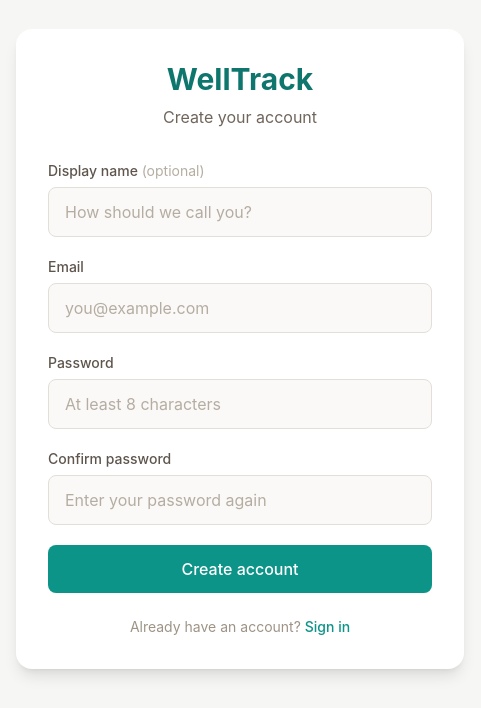
Test: RegisterPage › shows validation error for short password
Expected: the button "Create account" is shown, [48, 545, 432, 593]
Type "test@example.com" into the field labelled "Email" at (240, 308), box [48, 283, 432, 333]
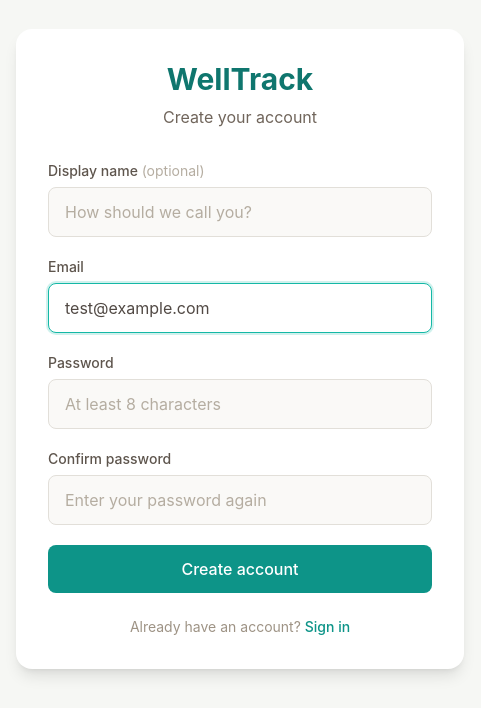
Type "short" into the password field labelled "Password" at (240, 404), box [48, 379, 432, 429]
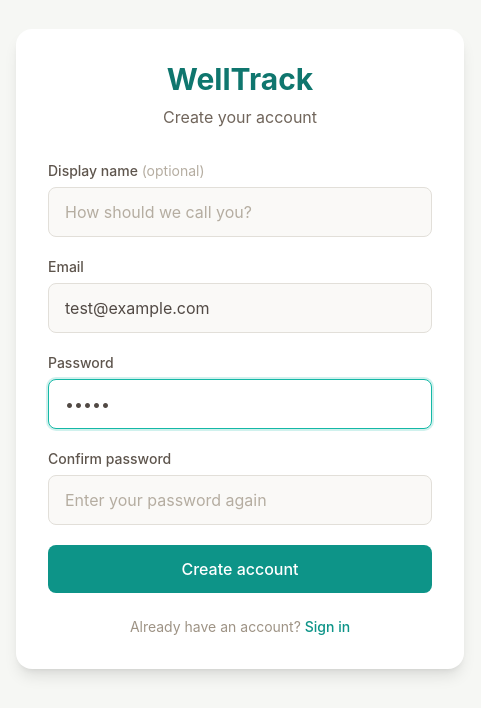
Type "short" into the password field labelled "Confirm password" at (240, 500), box [48, 475, 432, 525]
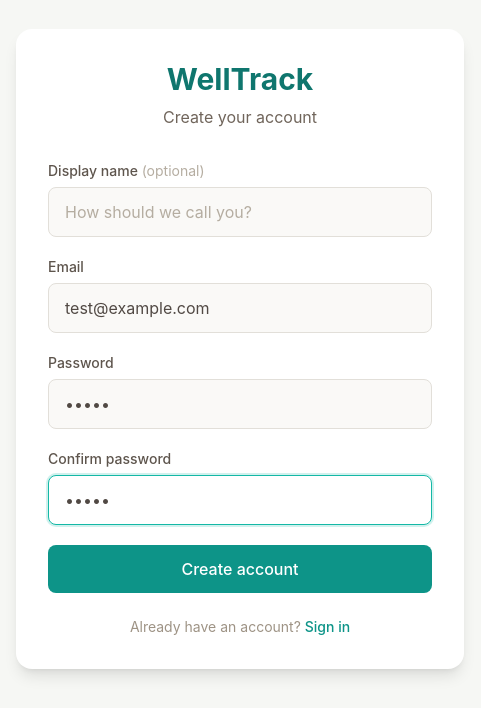
Click the button "Create account" at (240, 569), box [48, 545, 432, 593]
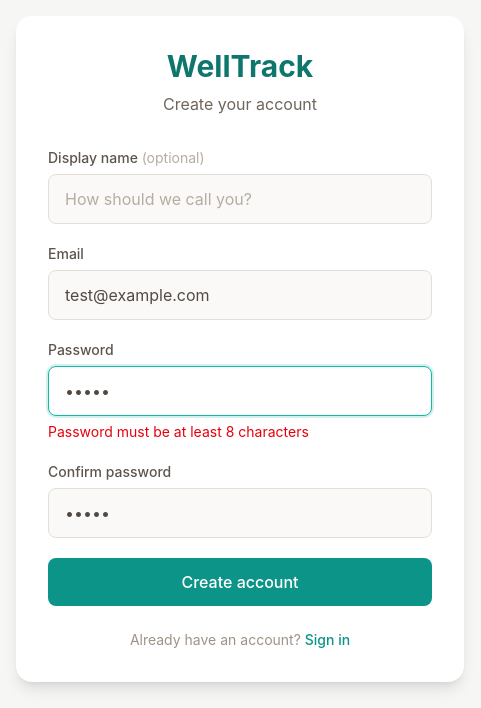
Now the text "Password must be at least 8 characters" is shown, box [48, 423, 309, 440]
